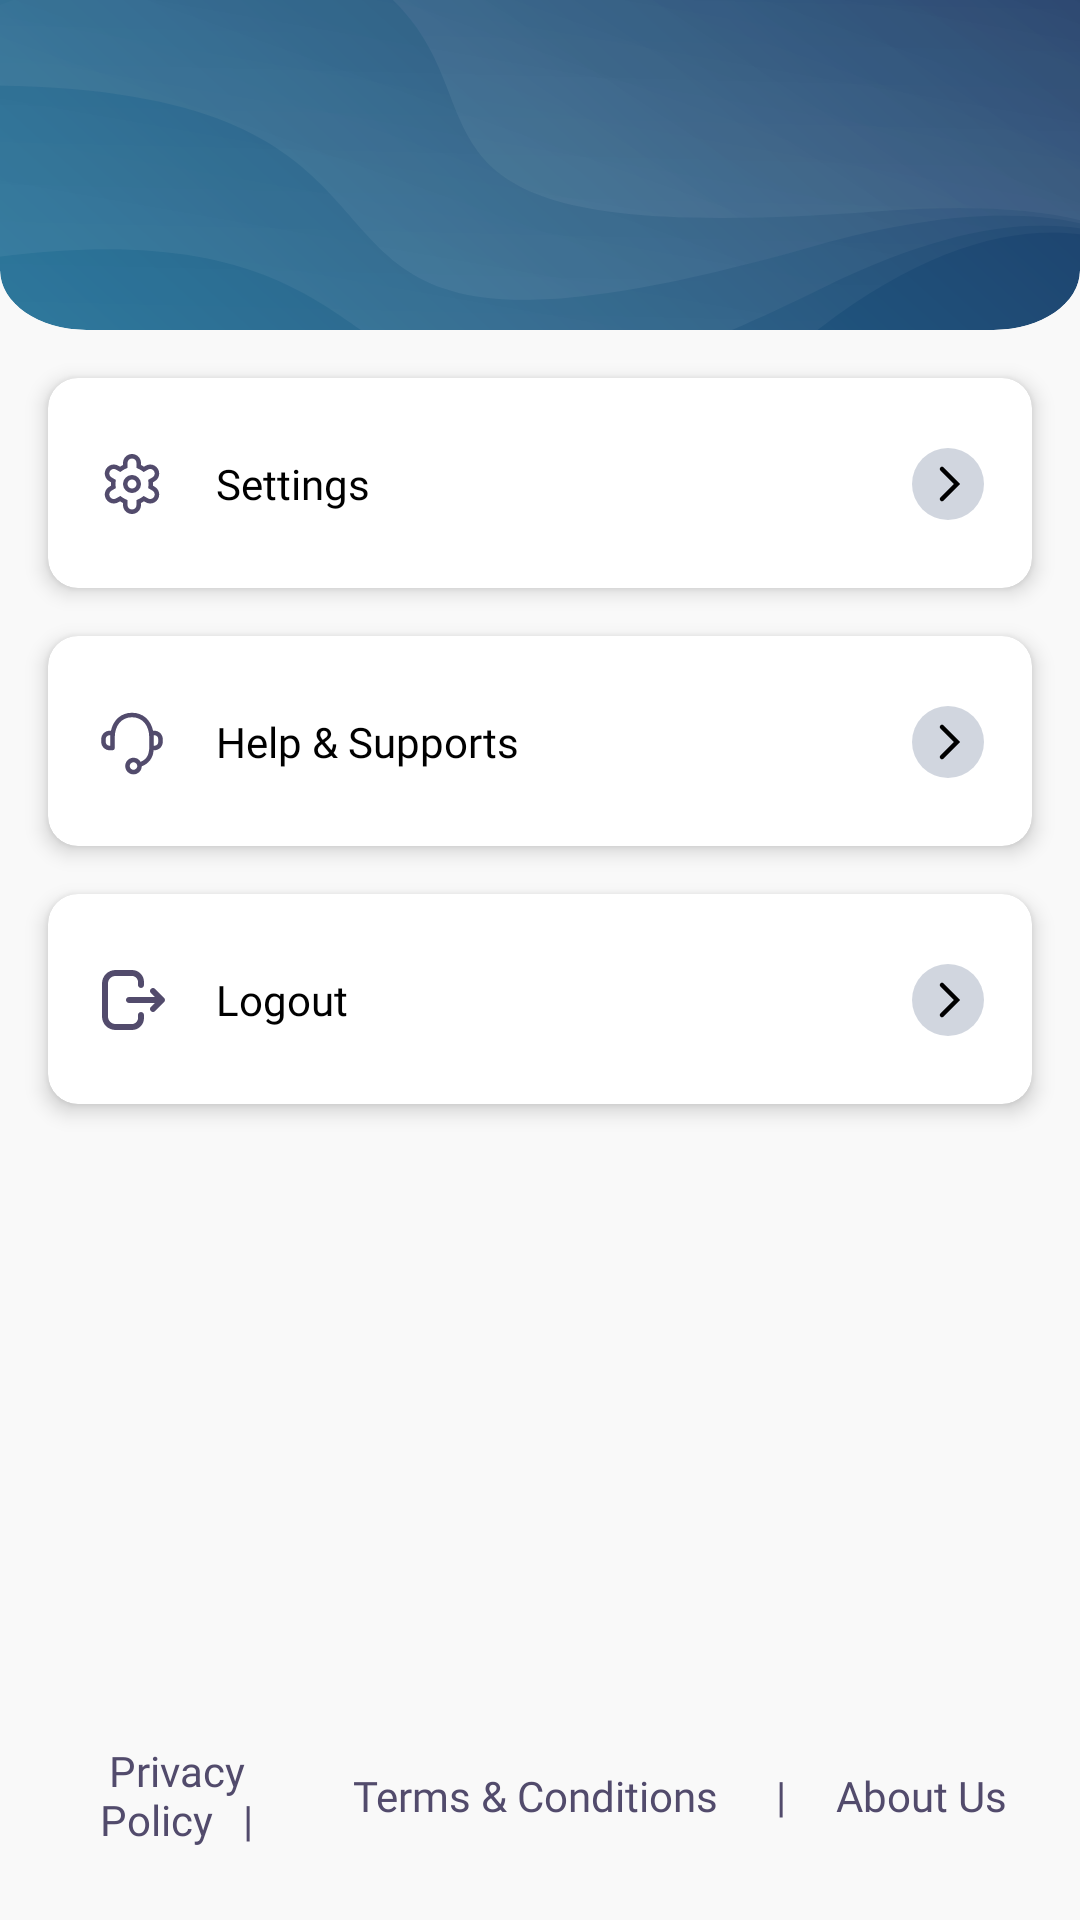

Locate icon controls on the screen. Image size 1080px x 1920px, boxes as (x1, y1, x2, y2).
forword: (912, 448, 984, 520), (912, 706, 984, 778), (912, 964, 984, 1036)
